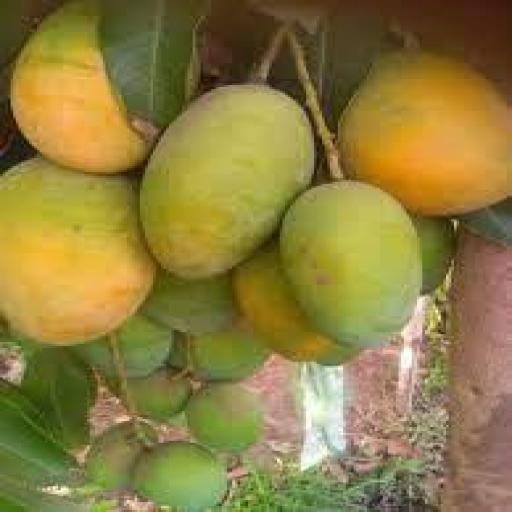mango: (140, 86, 314, 278), (338, 50, 511, 215), (0, 159, 155, 343), (280, 182, 422, 347)
